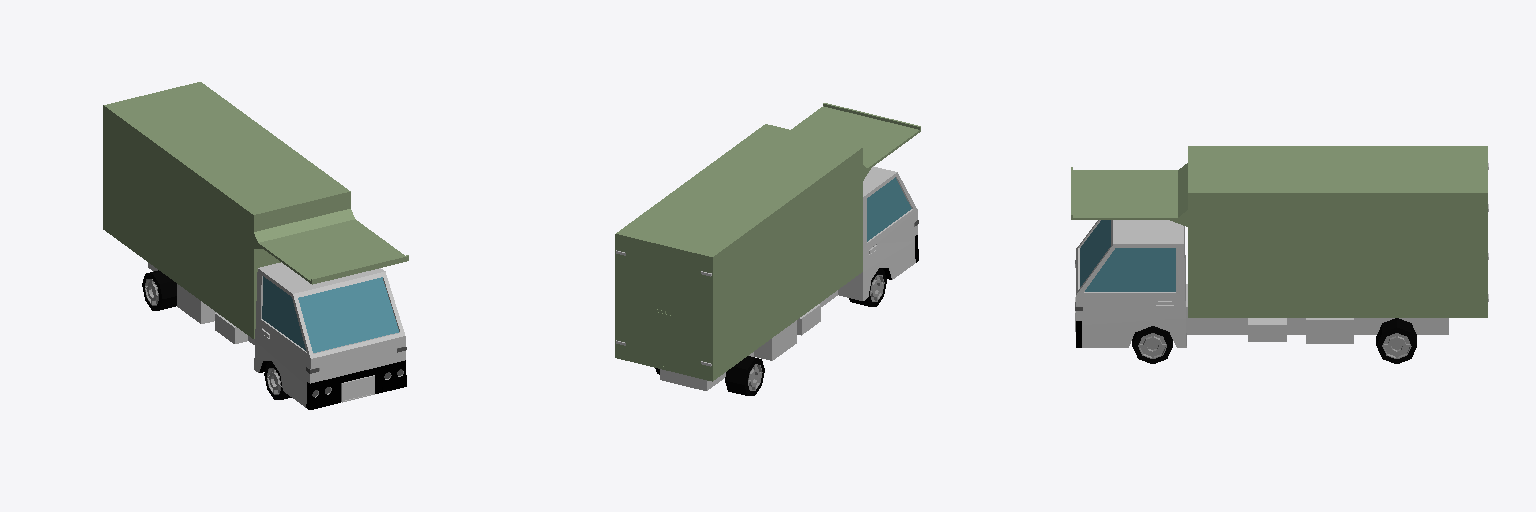
File: Truck.obj
The picture shows the model from 3 angles: view 1: azimuth 30°, elevation 25°; view 2: azimuth 150°, elevation 25°; view 3: azimuth 270°, elevation 25°; orthographic projection.
Visible parts, largest first — view 1: Truck_Cube; view 2: Truck_Cube; view 3: Truck_Cube.
Boxes of the visible parts, x1=… form: Truck_Cube: x1=103, y1=82, x2=408, y2=409; Truck_Cube: x1=615, y1=103, x2=920, y2=395; Truck_Cube: x1=1071, y1=146, x2=1488, y2=363.
Size of the model in its own units: 0.5973 by 1.02 by 2.23.